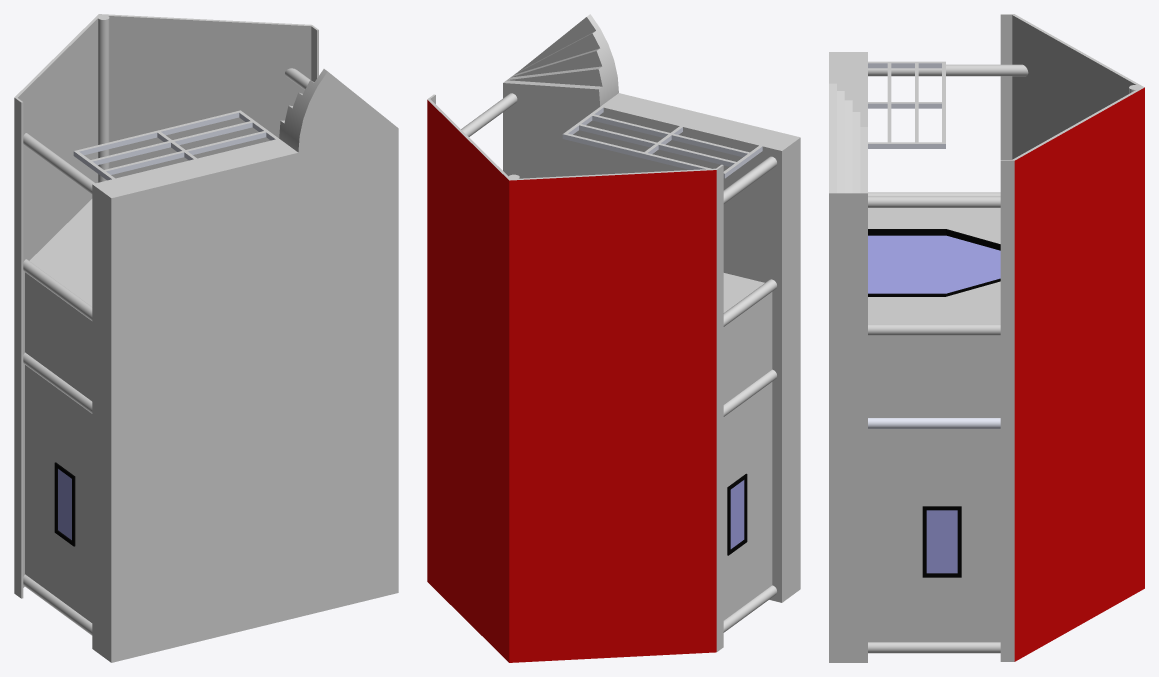
File: glamping_studio_polidor.glb
3 views of the same model, side by side, from view 1: azimuth 30°, elevation 25°; view 2: azimuth 150°, elevation 25°; view 3: azimuth 270°, elevation 25° (orthographic). The views are drawn at different scales.
Parts seen in each view (by area): view 1: 3DGeom-105, 3DGeom-102, 3DGeom-103, 3DGeom-101; view 2: 3DGeom-104, 3DGeom-105, 3DGeom-102, 3DGeom-103, 3DGeom-101; view 3: 3DGeom-105, 3DGeom-104, 3DGeom-103, 3DGeom-102, 3DGeom-101.
Boxes of the visible parts, box(x1,y1,x2,y2) form: 3DGeom-105: box(14, 14, 398, 662); 3DGeom-102: box(73, 112, 275, 180); 3DGeom-103: box(58, 469, 71, 539); 3DGeom-101: box(54, 462, 75, 546); 3DGeom-104: box(427, 100, 716, 662); 3DGeom-105: box(427, 14, 800, 651); 3DGeom-102: box(562, 107, 762, 178); 3DGeom-103: box(730, 480, 744, 548); 3DGeom-101: box(727, 473, 747, 555); 3DGeom-105: box(829, 14, 1144, 662); 3DGeom-104: box(1014, 87, 1144, 661); 3DGeom-103: box(868, 235, 1000, 573); 3DGeom-102: box(868, 63, 1000, 428); 3DGeom-101: box(868, 229, 1000, 577).
Size of the model in its own units: 0.00446 by 0.00771 by 0.00405.
